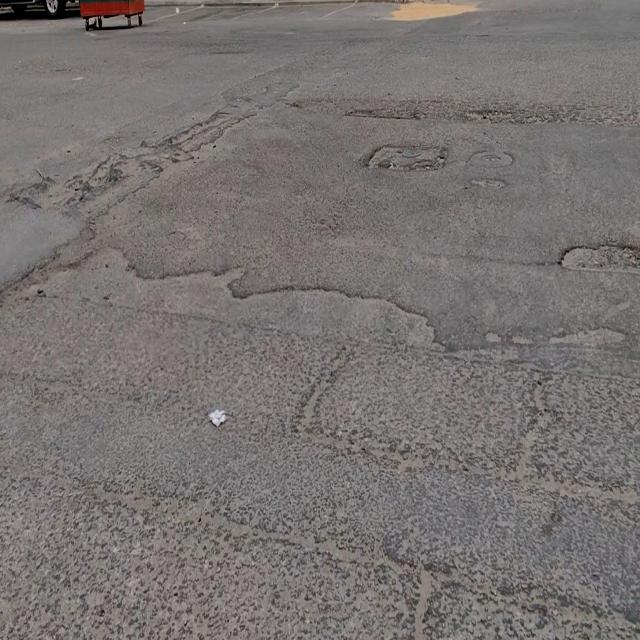Potholes: (565, 237, 640, 275), (364, 145, 446, 177)
